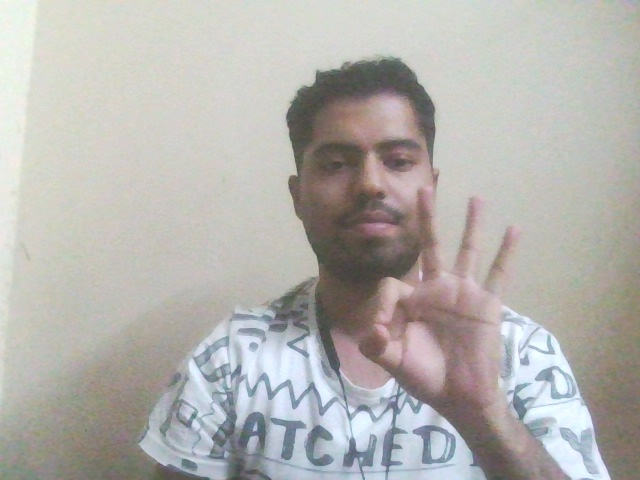Yes: (352, 185, 545, 396)
